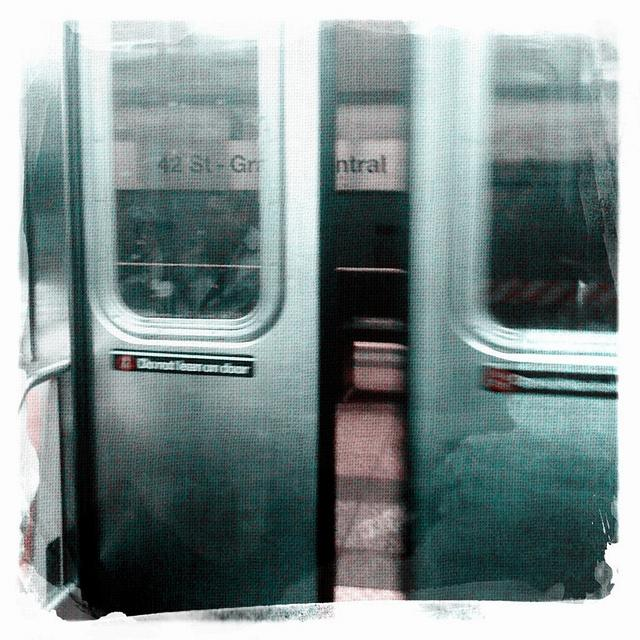Train: (2, 5, 613, 615)
